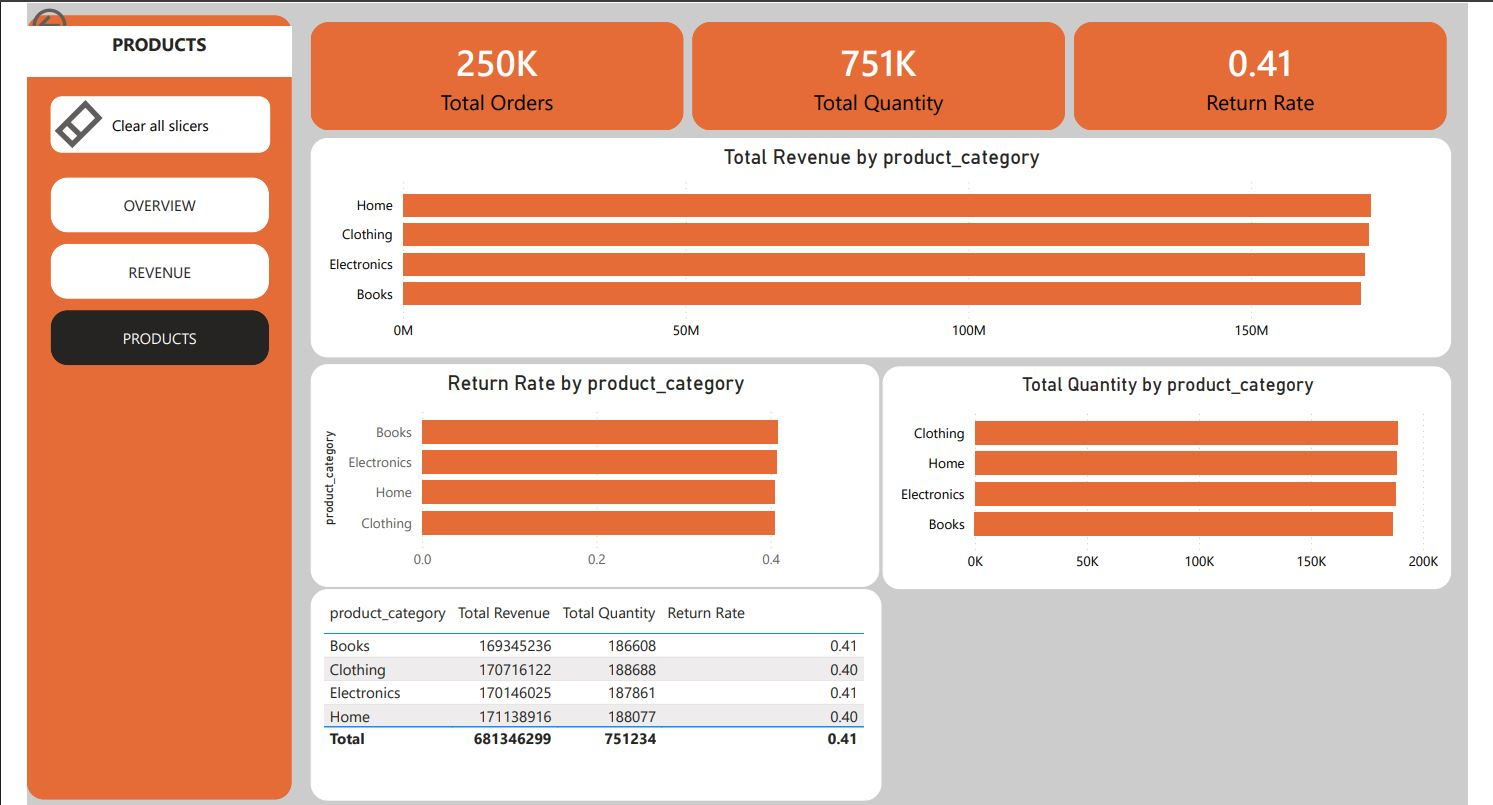

The dashboard page shown, as its layout file describes it:
{"tool":"powerbi","page":{"name":"PRODUCTS","canvas":[1280,720],"ordinal":2},"visuals":[{"type":"cardVisual","fields":{"Data":["calculation.Total Orders","calculation.Total Quantity","calculation.Return Rate"]},"box":[234.9,0,1044.9,130],"z":0},{"type":"shape","box":[0,11.2,234.9,696.6],"z":1000},{"type":"clusteredBarChart","fields":{"Category":["ecommerce_customer_data_large_cleaned.product_category"],"Y":["calculation.Return Rate"]},"box":[252.4,321.1,504.9,198.1],"z":2000},{"type":"tableEx","fields":{"Values":["ecommerce_customer_data_large_cleaned.product_category","calculation.Total Revenue","calculation.Total Quantity","calculation.Return Rate"]},"box":[252.4,520.8,506.5,188.5],"z":3000},{"type":"actionButton","box":[20.8,83.1,194.9,49.5],"z":4000},{"type":"pageNavigator","box":[20.8,155,194.9,169.4],"z":5000},{"type":"clusteredBarChart","fields":{"Category":["ecommerce_customer_data_large_cleaned.product_category"],"Y":["calculation.Total Quantity"]},"box":[760.5,322.7,504.9,198.1],"z":6000},{"type":"clusteredBarChart","fields":{"Category":["ecommerce_customer_data_large_cleaned.product_category"],"Y":["calculation.Total Revenue"]},"box":[252.4,119.8,1012.9,194.9],"z":7000},{"type":"actionButton","box":[0,0,100,40],"z":8000},{"type":"textbox","box":[0,20.8,234.9,44.7],"z":9000}]}

Visuals, with their boxes on the page's 1280x720 design canvas (x1, y1, x2, y2). These are canvas units, not pixel positions in the 1493x805 screenshot, which may show the page scaled, cropped or inside an application window:
cardVisual - calculation.Total Orders x calculation.Total Quantity: bbox=[235, 0, 1280, 130]
shape: bbox=[0, 11, 235, 708]
clusteredBarChart - ecommerce_customer_data_large_cleaned.product_category x calculation.Return Rate: bbox=[252, 321, 757, 519]
tableEx - ecommerce_customer_data_large_cleaned.product_category x calculation.Total Revenue: bbox=[252, 521, 759, 709]
actionButton: bbox=[21, 83, 216, 133]
pageNavigator: bbox=[21, 155, 216, 324]
clusteredBarChart - ecommerce_customer_data_large_cleaned.product_category x calculation.Total Quantity: bbox=[760, 323, 1265, 521]
clusteredBarChart - ecommerce_customer_data_large_cleaned.product_category x calculation.Total Revenue: bbox=[252, 120, 1265, 315]
actionButton: bbox=[0, 0, 100, 40]
textbox: bbox=[0, 21, 235, 66]
